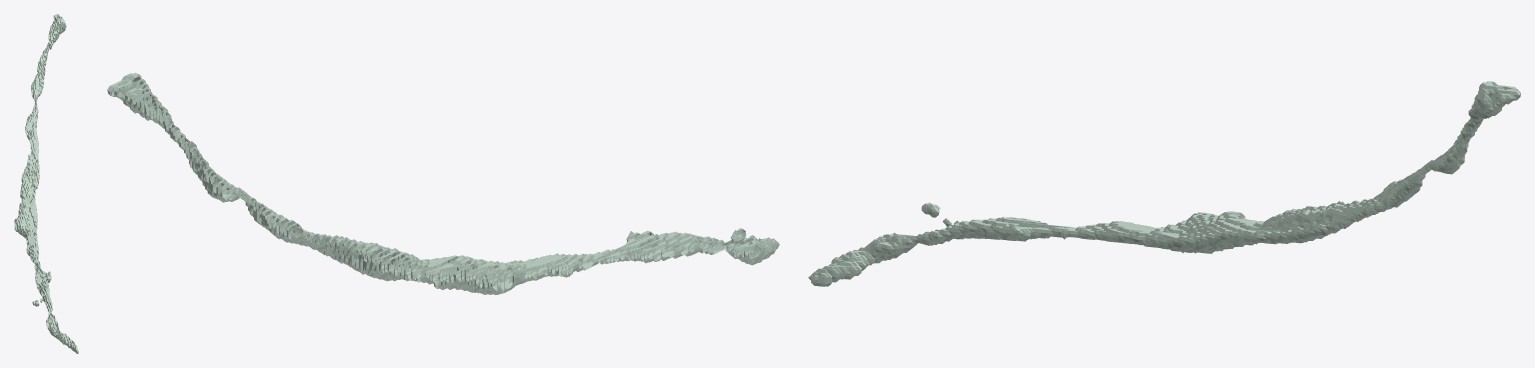
File: SVV_ASGR.gltf
The picture shows the model from 3 angles, left to right: view 1: azimuth 30°, elevation 25°; view 2: azimuth 150°, elevation 25°; view 3: azimuth 270°, elevation 25°; orthographic projection. The views are drawn at different scales.
Visible parts, largest first — view 1: ASGR; view 2: ASGR; view 3: ASGR.
Boxes of the visible parts, left/top/right/bottom form: ASGR: left=14, top=14, right=78, bottom=353; ASGR: left=107, top=72, right=779, bottom=294; ASGR: left=808, top=81, right=1520, bottom=286.
Bounding box in the file's own units: 74679 × 72519 × 133977.
